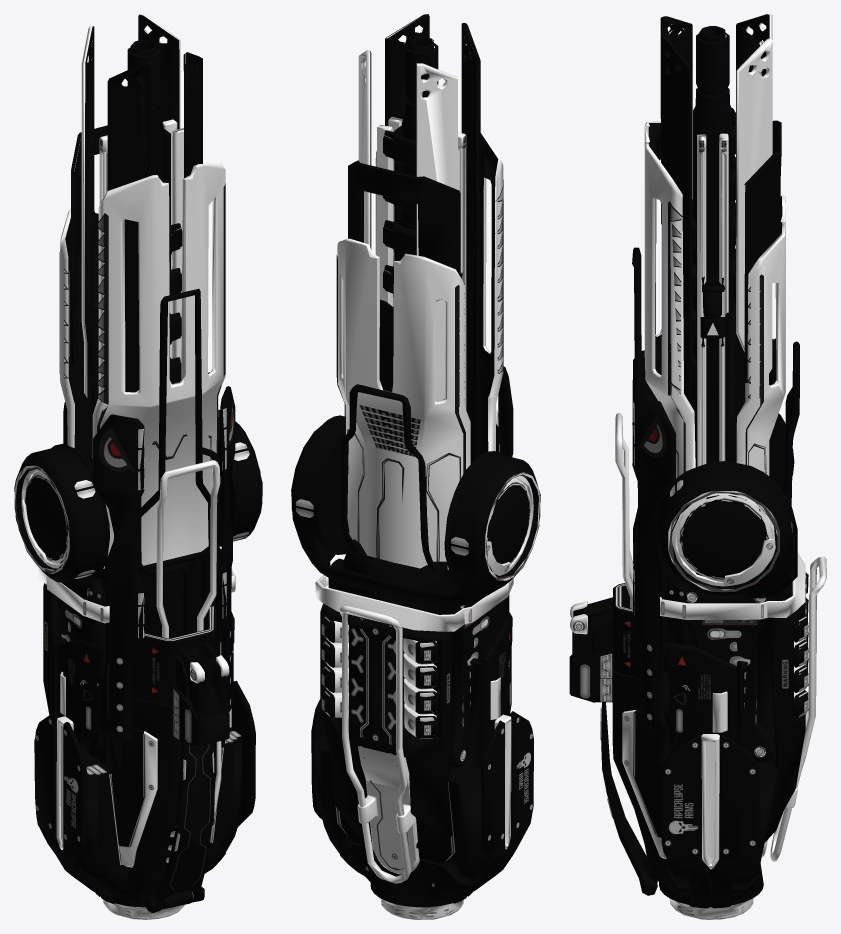
Rendered from havoc-scattergun-sharkmouth-edition.glb.
3 views of the same model, side by side, from view 1: azimuth 30°, elevation 25°; view 2: azimuth 150°, elevation 25°; view 3: azimuth 270°, elevation 25° (orthographic).
Visible parts, largest first — view 1: core, bar_body; view 2: core, bar_body; view 3: core, bar_body.
Part boxes in pixels (left/top/right/bottom): core: left=14, top=14, right=262, bottom=919; bar_body: left=59, top=183, right=234, bottom=472; core: left=291, top=14, right=540, bottom=919; bar_body: left=336, top=179, right=503, bottom=548; core: left=569, top=14, right=826, bottom=919; bar_body: left=637, top=201, right=763, bottom=500.
Bounding box in the file's own units: 0.3038 × 1.29 × 0.3421.
10 materials, 6 textured.
